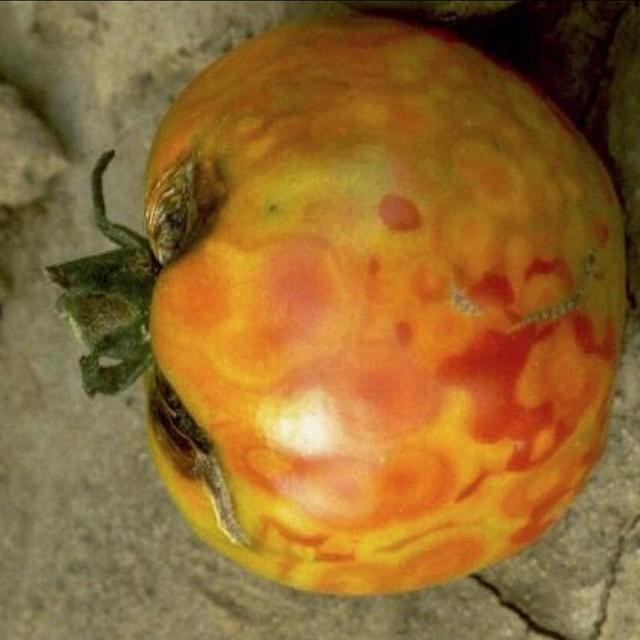Spotted wilt Virus Fruit: (128, 203, 469, 576)
